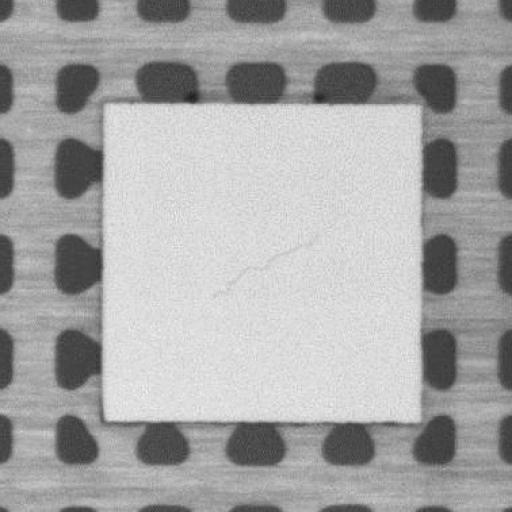DIE_CRACK: (207, 239, 310, 297)
